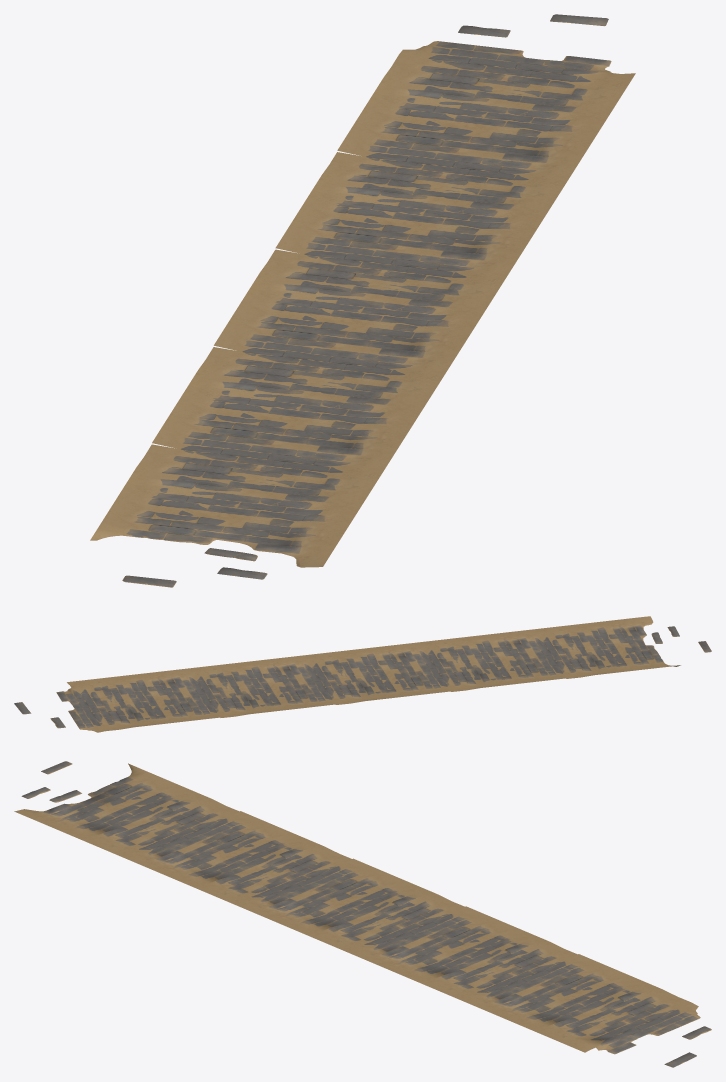
The model's file is SM_ENV_LKNVLD_Ground_Left_RoadToGarden_04.FBX.
3 views of the same model, one above another, from view 1: azimuth 30°, elevation 25°; view 2: azimuth 150°, elevation 25°; view 3: azimuth 270°, elevation 25° (orthographic). The views are drawn at different scales.
Parts seen in each view (by area): view 1: SM_ENV_LKNVLD_Ground_Left_RoadToGarden_04; view 2: SM_ENV_LKNVLD_Ground_Left_RoadToGarden_04; view 3: SM_ENV_LKNVLD_Ground_Left_RoadToGarden_04.
Part boxes in pixels (x1,y1,x2,y2): SM_ENV_LKNVLD_Ground_Left_RoadToGarden_04: [90, 14, 635, 587]; SM_ENV_LKNVLD_Ground_Left_RoadToGarden_04: [14, 616, 711, 732]; SM_ENV_LKNVLD_Ground_Left_RoadToGarden_04: [14, 761, 711, 1067].
Size of the model in its own units: 2345 by 11.01 by 2258.
